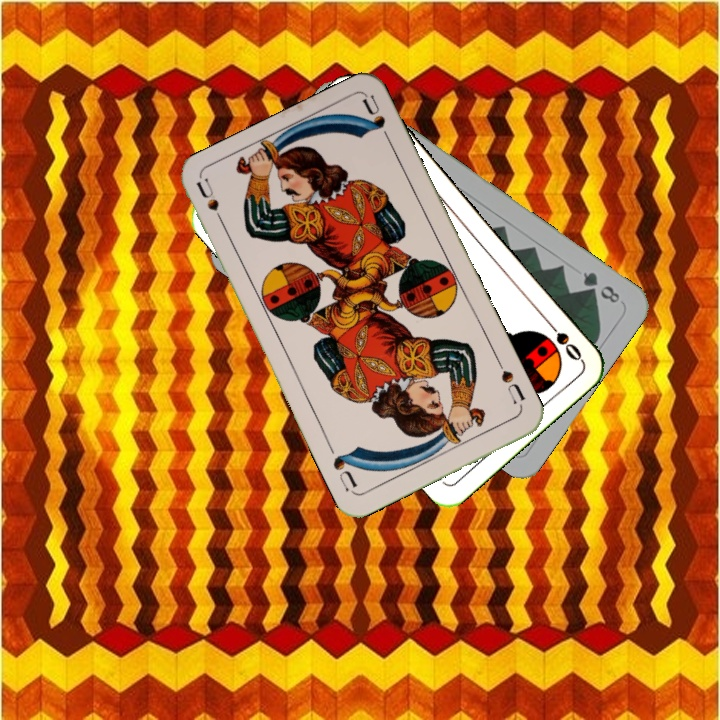G8: (578, 267, 623, 306)
SO: (540, 314, 585, 364)
SU: (193, 175, 230, 233), (492, 355, 528, 407)
